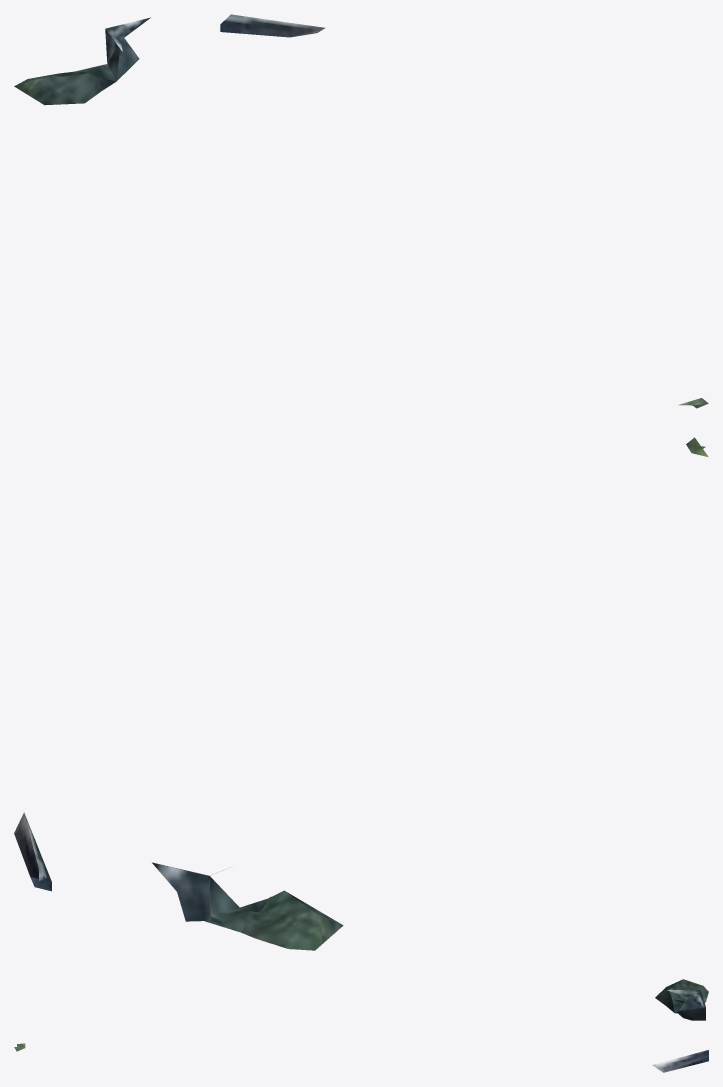
3 views of the same model, one above another, from view 1: azimuth 30°, elevation 25°; view 2: azimuth 150°, elevation 25°; view 3: azimuth 270°, elevation 25° (orthographic). The views are drawn at different scales.
Parts seen in each view (by area): view 1: 30436272704361415717_0; view 2: 30436272704361415717_0; view 3: 30436272704361415717_0.
Part boxes in pixels (x1,y1,x2,y2): 30436272704361415717_0: [14, 14, 708, 408]; 30436272704361415717_0: [14, 437, 708, 950]; 30436272704361415717_0: [14, 979, 708, 1072].
Bounding box in the file's own units: 11.82 × 1.54 × 37.64.
1 material, 1 textured.
